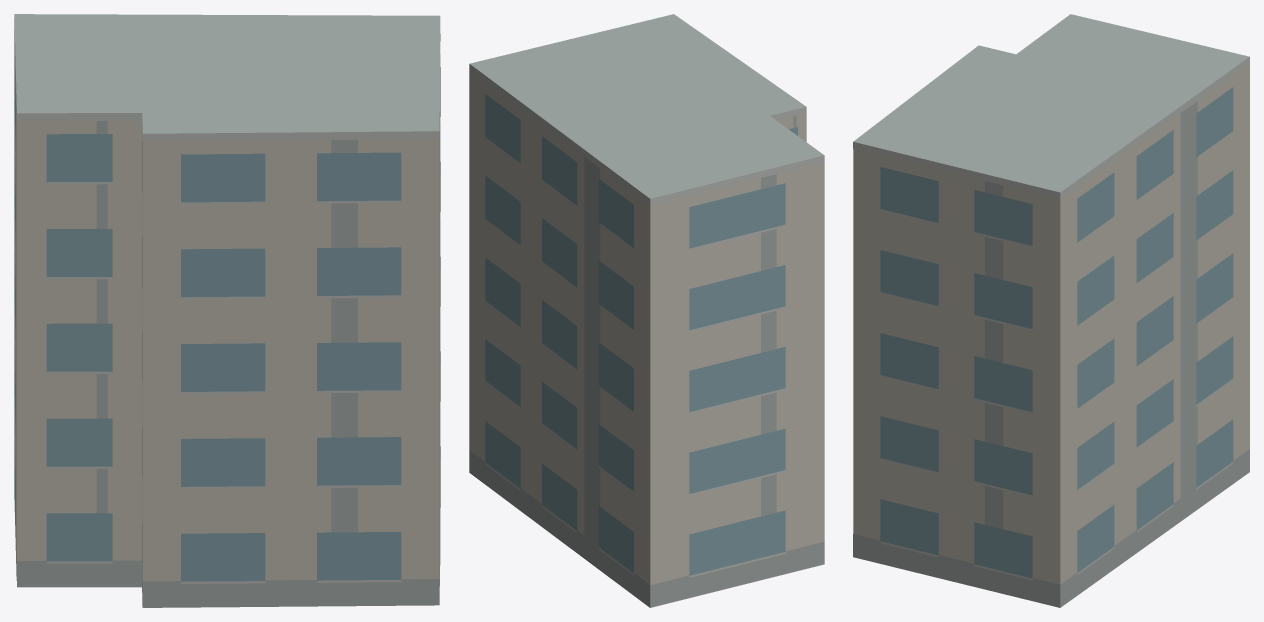
File: survey-upis-32776886.glb
3 renders of one model, left to right at view 1: azimuth 30°, elevation 25°; view 2: azimuth 150°, elevation 25°; view 3: azimuth 270°, elevation 25°, orthographic. The views are drawn at different scales.
Visible parts, largest first — view 1: survey-upis-32776886.tmp; view 2: survey-upis-32776886.tmp; view 3: survey-upis-32776886.tmp.
Part boxes in pixels (x1,y1,x2,y2): survey-upis-32776886.tmp: (14,14,440,607); survey-upis-32776886.tmp: (469,14,824,607); survey-upis-32776886.tmp: (853,14,1249,607).
Size of the model in its own units: 13.56 by 14.7 by 12.73.
